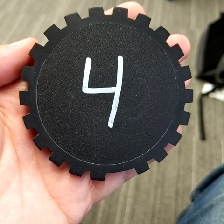gear: (17, 5, 195, 184)
missing: (89, 159, 150, 183)
